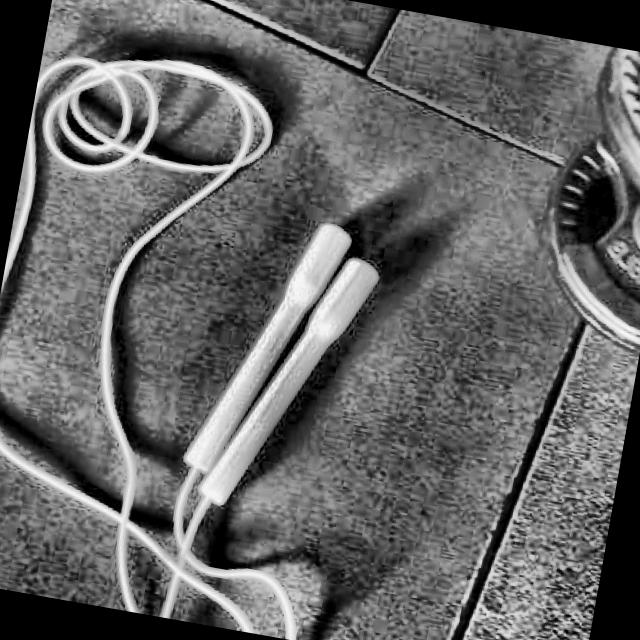Cable: (0, 33, 413, 640)
